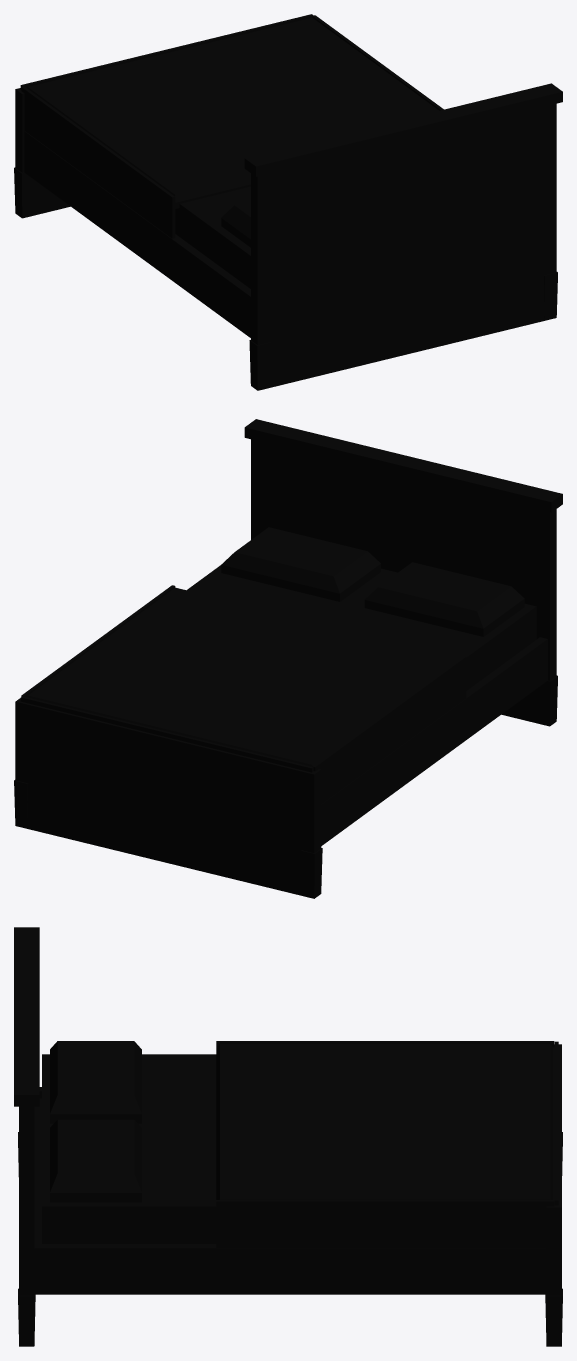
File: SM_bed_double_walnut.fbx
3 renders of one model, top to bottom at view 1: azimuth 30°, elevation 25°; view 2: azimuth 150°, elevation 25°; view 3: azimuth 270°, elevation 25°, orthographic. The views are drawn at different scales.
Visible parts, largest first — view 1: bed_double_walnut; view 2: bed_double_walnut; view 3: bed_double_walnut.
Boxes of the visible parts, x1,y1,x2,y2 form: bed_double_walnut: (14, 14, 562, 390); bed_double_walnut: (14, 419, 562, 898); bed_double_walnut: (14, 927, 562, 1346).
Bounding box in the file's own units: 1.55 × 1.1 × 2.14.
